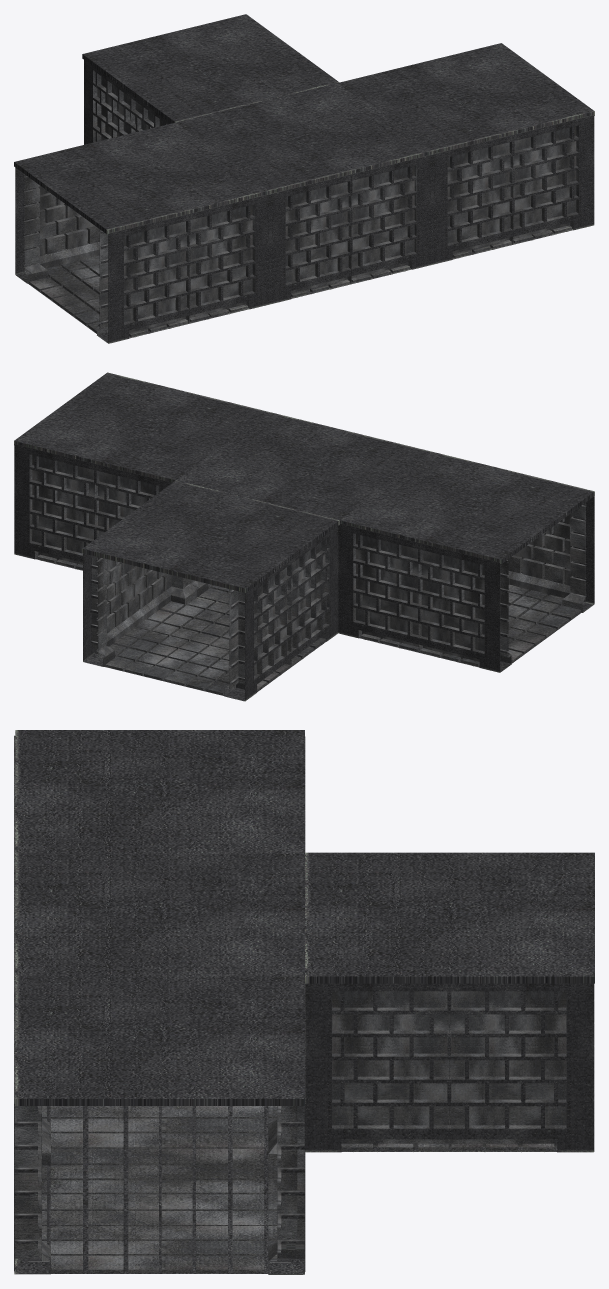
The model's file is level4NEW(T).obj.
3 views of the same model, one above another, from view 1: azimuth 30°, elevation 25°; view 2: azimuth 150°, elevation 25°; view 3: azimuth 270°, elevation 25° (orthographic). The views are drawn at different scales.
Parts seen in each view (by area): view 1: Plane.109_Plane.235, Plane.107_Plane.233, Plane.106_Plane.232, Plane.108_Plane.234, Plane.053_Plane.056, Plane.048_Plane.051, Plane.050_Plane.053, Plane.049_Plane.052, Plane.051_Plane.054, Plane.052_Plane.055, Plane.064_Plane.127, Plane.012_Plane.145 (+6 smaller); view 2: Plane.108_Plane.234, Plane.109_Plane.235, Plane.106_Plane.232, Plane.107_Plane.233, Plane.013_Plane.146, Plane.064_Plane.127, Plane.063_Plane.126, Plane.054_Plane.057, Plane.057_Plane.060, Plane.014_Plane.147, Plane.053_Plane.056, Plane.012_Plane.145 (+8 smaller); view 3: Plane.108_Plane.234, Plane.106_Plane.232, Plane.109_Plane.235, Plane.107_Plane.233, Plane.010_Plane.140, Plane.015_Plane.148, Plane.058_Plane.061, Plane.011_Plane.144, Cube.143_Cube.219, Cube.150_Cube.226, Plane.013_Plane.146, Plane.054_Plane.057.
Part boxes in pixels (left/top/right/bottom): Plane.109_Plane.235: left=14, top=122, right=271, bottom=234; Plane.107_Plane.233: left=176, top=83, right=432, bottom=193; Plane.106_Plane.232: left=338, top=43, right=594, bottom=153; Plane.108_Plane.234: left=82, top=14, right=339, bottom=123; Plane.053_Plane.056: left=97, top=214, right=189, bottom=343; Plane.048_Plane.051: left=513, top=115, right=594, bottom=244; Plane.050_Plane.053: left=270, top=174, right=351, bottom=304; Plane.049_Plane.052: left=432, top=135, right=513, bottom=264; Plane.051_Plane.054: left=351, top=154, right=432, bottom=284; Plane.052_Plane.055: left=189, top=194, right=270, bottom=323; Plane.064_Plane.127: left=15, top=167, right=99, bottom=283; Plane.012_Plane.145: left=16, top=255, right=249, bottom=341; Plane.108_Plane.234: left=82, top=480, right=339, bottom=592; Plane.109_Plane.235: left=338, top=451, right=594, bottom=564; Plane.106_Plane.232: left=14, top=372, right=268, bottom=482; Plane.107_Plane.233: left=176, top=412, right=430, bottom=520; Plane.013_Plane.146: left=83, top=597, right=326, bottom=700; Plane.064_Plane.127: left=419, top=543, right=511, bottom=672; Plane.063_Plane.126: left=338, top=523, right=419, bottom=652; Plane.054_Plane.057: left=14, top=444, right=95, bottom=570; Plane.057_Plane.060: left=285, top=526, right=338, bottom=666; Plane.014_Plane.147: left=234, top=560, right=291, bottom=701; Plane.053_Plane.056: left=510, top=496, right=594, bottom=612; Plane.012_Plane.145: left=359, top=584, right=592, bottom=671; Plane.108_Plane.234: left=305, top=852, right=594, bottom=983; Plane.106_Plane.232: left=15, top=976, right=304, bottom=1105; Plane.109_Plane.235: left=15, top=730, right=304, bottom=853; Plane.107_Plane.233: left=15, top=852, right=304, bottom=976; Plane.010_Plane.140: left=14, top=1148, right=304, bottom=1273; Plane.015_Plane.148: left=449, top=983, right=593, bottom=1152; Plane.058_Plane.061: left=305, top=983, right=449, bottom=1152; Plane.011_Plane.144: left=42, top=1106, right=277, bottom=1151; Cube.143_Cube.219: left=14, top=1092, right=50, bottom=1274; Cube.150_Cube.226: left=268, top=1106, right=304, bottom=1274; Plane.013_Plane.146: left=341, top=1136, right=594, bottom=1151; Plane.054_Plane.057: left=268, top=1043, right=305, bottom=1274.
Size of the model in its own units: 24.1 by 5.36 by 16.03.
